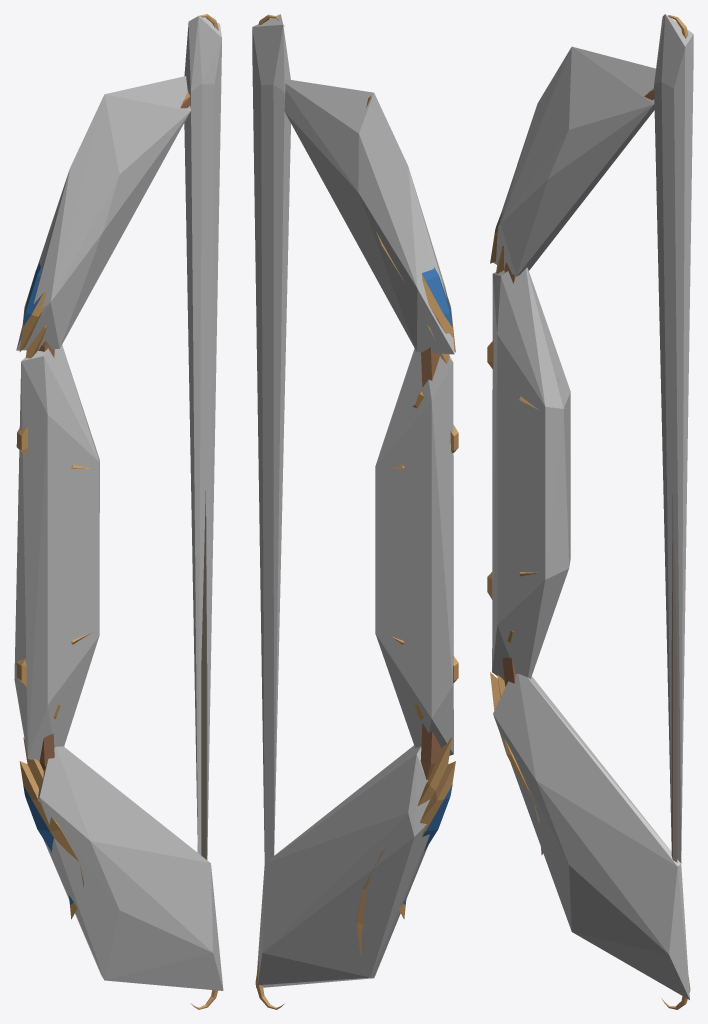
File: SM_Wep_Bow_02.fbx
The picture shows the model from 3 angles, left to right: view 1: azimuth 30°, elevation 25°; view 2: azimuth 150°, elevation 25°; view 3: azimuth 330°, elevation 25°; orthographic projection.
Parts seen in each view (by area): view 1: SM_Wep_Bow_02_ConvexHulls, SM_Wep_Bow_02; view 2: SM_Wep_Bow_02_ConvexHulls, SM_Wep_Bow_02; view 3: SM_Wep_Bow_02_ConvexHulls, SM_Wep_Bow_02.
Part boxes in pixels (bbox=[...]): SM_Wep_Bow_02_ConvexHulls: bbox=[14, 16, 223, 990]; SM_Wep_Bow_02: bbox=[16, 14, 218, 1009]; SM_Wep_Bow_02_ConvexHulls: bbox=[252, 14, 454, 988]; SM_Wep_Bow_02: bbox=[255, 14, 458, 1009]; SM_Wep_Bow_02_ConvexHulls: bbox=[492, 14, 693, 999]; SM_Wep_Bow_02: bbox=[487, 15, 690, 1009].
Size of the model in its own units: 33.65 by 7.25 by 158.
2 materials, 1 textured.
